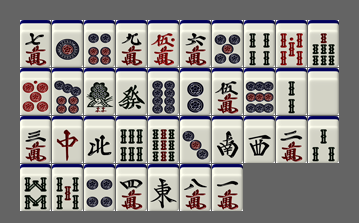0m: (148, 20, 179, 67)
0p: (20, 68, 51, 115)
0s: (276, 20, 307, 67)
1m: (212, 164, 243, 211)
1p: (52, 20, 83, 67)
1s: (84, 68, 115, 115)
1z: (148, 164, 179, 211)
2m: (276, 116, 307, 163)
2p: (180, 68, 211, 115)
2s: (276, 68, 307, 115)
2z: (212, 116, 243, 163)
3m: (20, 116, 51, 163)
3p: (180, 116, 211, 163)
3s: (308, 116, 339, 163)
3z: (244, 116, 275, 163)
4m: (116, 164, 147, 211)
4p: (84, 164, 115, 211)
4s: (244, 20, 275, 67)
4z: (84, 116, 115, 163)
5m: (212, 68, 243, 115)
5p: (212, 20, 243, 67)
5s: (52, 164, 83, 211)
5z: (308, 68, 339, 115)
6m: (180, 20, 211, 67)
6p: (84, 20, 115, 67)
6s: (116, 116, 147, 163)
6z: (116, 68, 147, 115)
7m: (20, 20, 51, 67)
7p: (52, 68, 83, 115)
7s: (308, 20, 339, 67)
7z: (52, 116, 83, 163)
8m: (180, 164, 211, 211)
8p: (148, 68, 179, 115)
8s: (20, 164, 51, 211)
9m: (116, 20, 147, 67)
9p: (244, 68, 275, 115)
9s: (148, 116, 179, 163)
